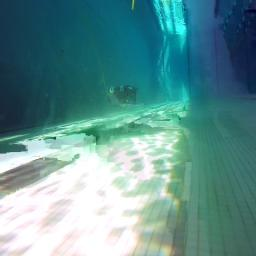back: (106, 82, 138, 107)
